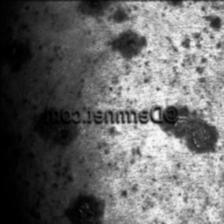Non-Cancerous Skin Condition: (160, 104, 218, 152), (36, 109, 74, 141), (65, 193, 104, 224), (2, 38, 30, 68), (77, 0, 109, 15)
